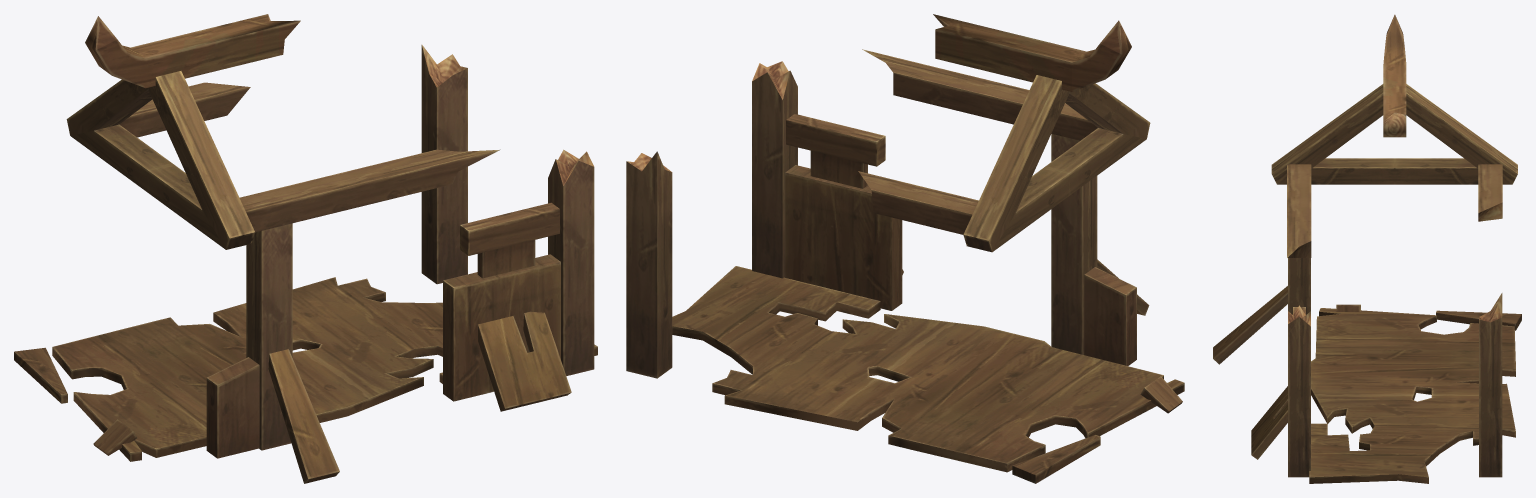
Rendered from Stage_CaoYuan_FeiXu02.FBX.
3 renders of one model, left to right at view 1: azimuth 30°, elevation 25°; view 2: azimuth 150°, elevation 25°; view 3: azimuth 270°, elevation 25°, orthographic. The views are drawn at different scales.
Parts seen in each view (by area): view 1: Stage_CaoYuan_FeiXu02; view 2: Stage_CaoYuan_FeiXu02; view 3: Stage_CaoYuan_FeiXu02.
Part boxes in pixels (x1=…): Stage_CaoYuan_FeiXu02: x1=14, y1=14, x2=597, y2=483; Stage_CaoYuan_FeiXu02: x1=626, y1=14, x2=1184, y2=483; Stage_CaoYuan_FeiXu02: x1=1213, y1=14, x2=1521, y2=483.
Bounding box in the file's own units: 543 × 449 × 408.
